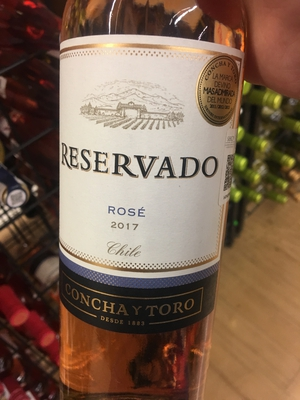reservado rose: (53, 8, 244, 400)
